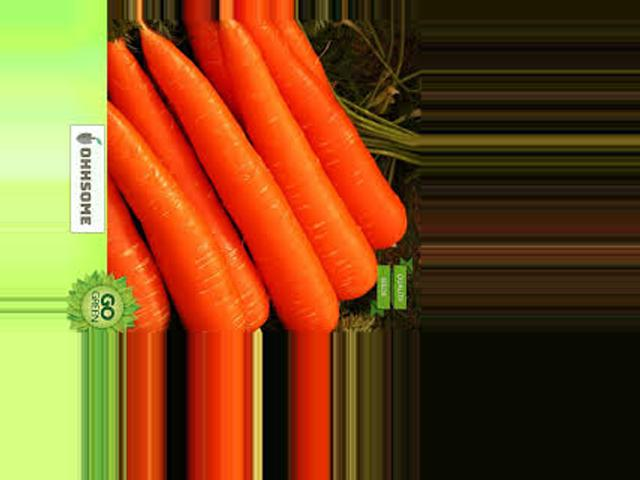carrot: (98, 31, 272, 330)
